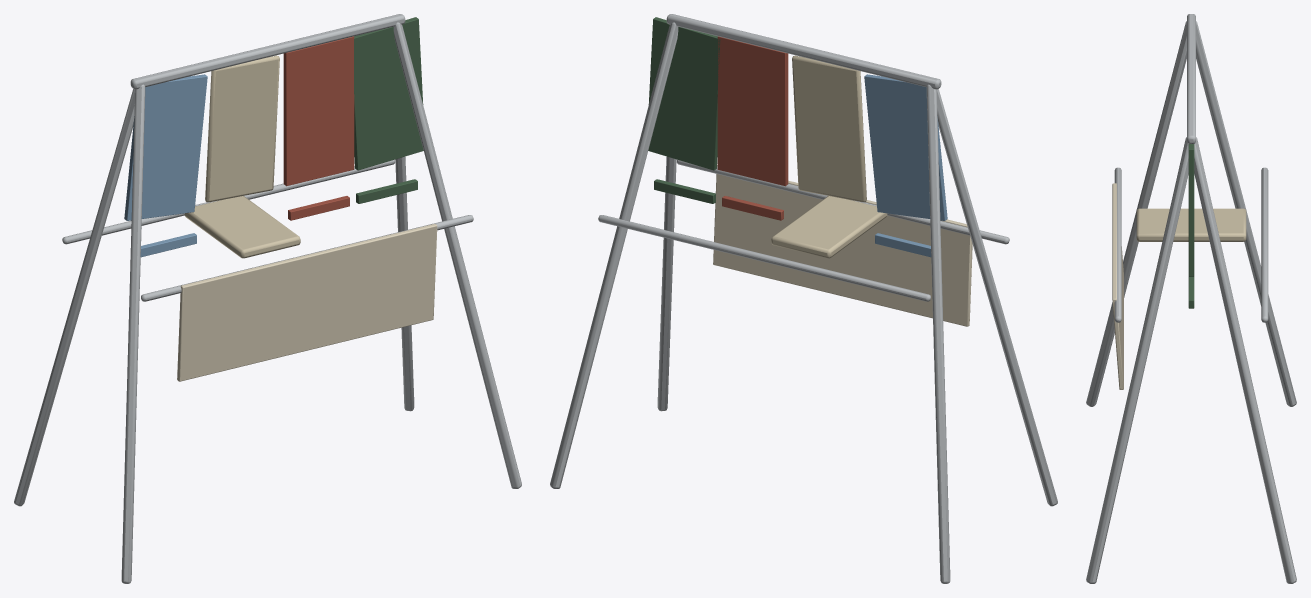
The model's file is GiaPhoiDo_Xep.glb.
The picture shows the model from 3 angles, left to right: view 1: azimuth 30°, elevation 25°; view 2: azimuth 150°, elevation 25°; view 3: azimuth 270°, elevation 25°; orthographic projection. The views are drawn at different scales.
Visible parts, largest first — view 1: GiaPhoiDo_Xep; view 2: GiaPhoiDo_Xep; view 3: GiaPhoiDo_Xep.
Boxes of the visible parts, x1,y1,x2,y2 form: GiaPhoiDo_Xep: [14, 14, 521, 583]; GiaPhoiDo_Xep: [550, 14, 1057, 583]; GiaPhoiDo_Xep: [1086, 14, 1296, 583].
Bounding box in the file's own units: 0.9408 × 1.01 × 0.46.
